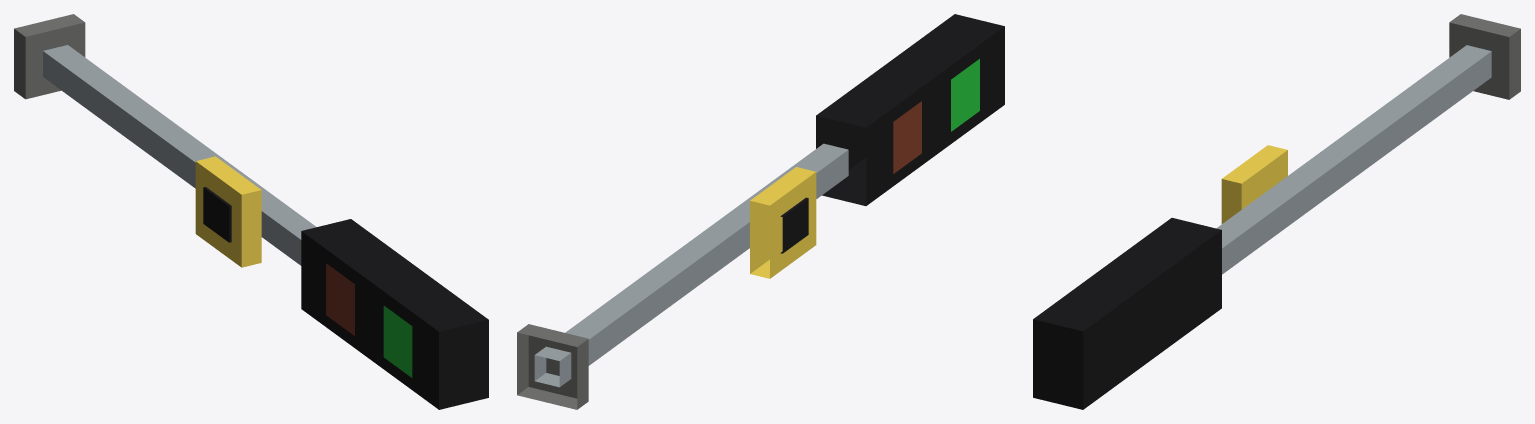
Rendered from green.glb.
The picture shows the model from 3 angles, left to right: view 1: azimuth 30°, elevation 25°; view 2: azimuth 150°, elevation 25°; view 3: azimuth 330°, elevation 25°; orthographic projection.
Visible parts, largest first — view 1: signal_electric_combo_green; view 2: signal_electric_combo_green; view 3: signal_electric_combo_green.
Part boxes in pixels (<box>): signal_electric_combo_green: <box>14,14,488,409</box>; signal_electric_combo_green: <box>517,14,1004,409</box>; signal_electric_combo_green: <box>1033,14,1520,409</box>.
Size of the model in its own units: 1.35 by 1.5 by 14.8.
